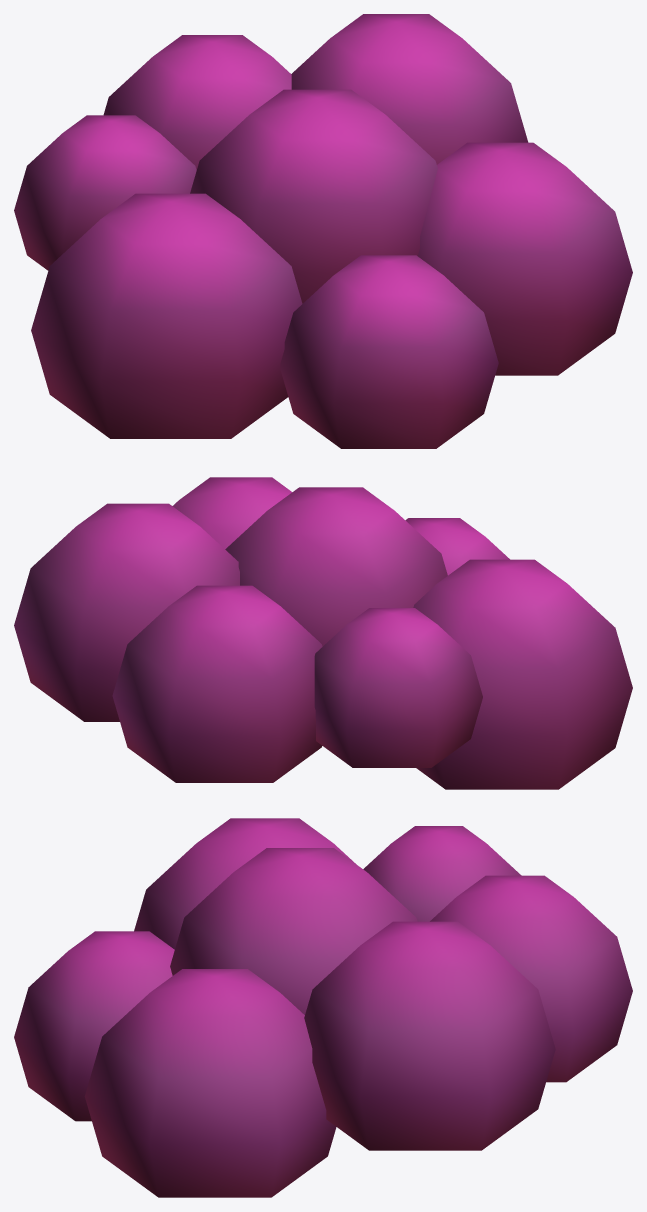
File: mashine1_grape.fbx
3 renders of one model, top to bottom at view 1: azimuth 30°, elevation 25°; view 2: azimuth 150°, elevation 25°; view 3: azimuth 270°, elevation 25°, orthographic. The views are drawn at different scales.
Visible parts, largest first — view 1: Sphere.007; view 2: Sphere.007; view 3: Sphere.007.
Boxes of the visible parts, x1=… form: Sphere.007: x1=14, y1=14, x2=632, y2=448; Sphere.007: x1=14, y1=477, x2=632, y2=789; Sphere.007: x1=14, y1=818, x2=632, y2=1197.
Size of the model in its own units: 24.25 by 11.1 by 25.88.
